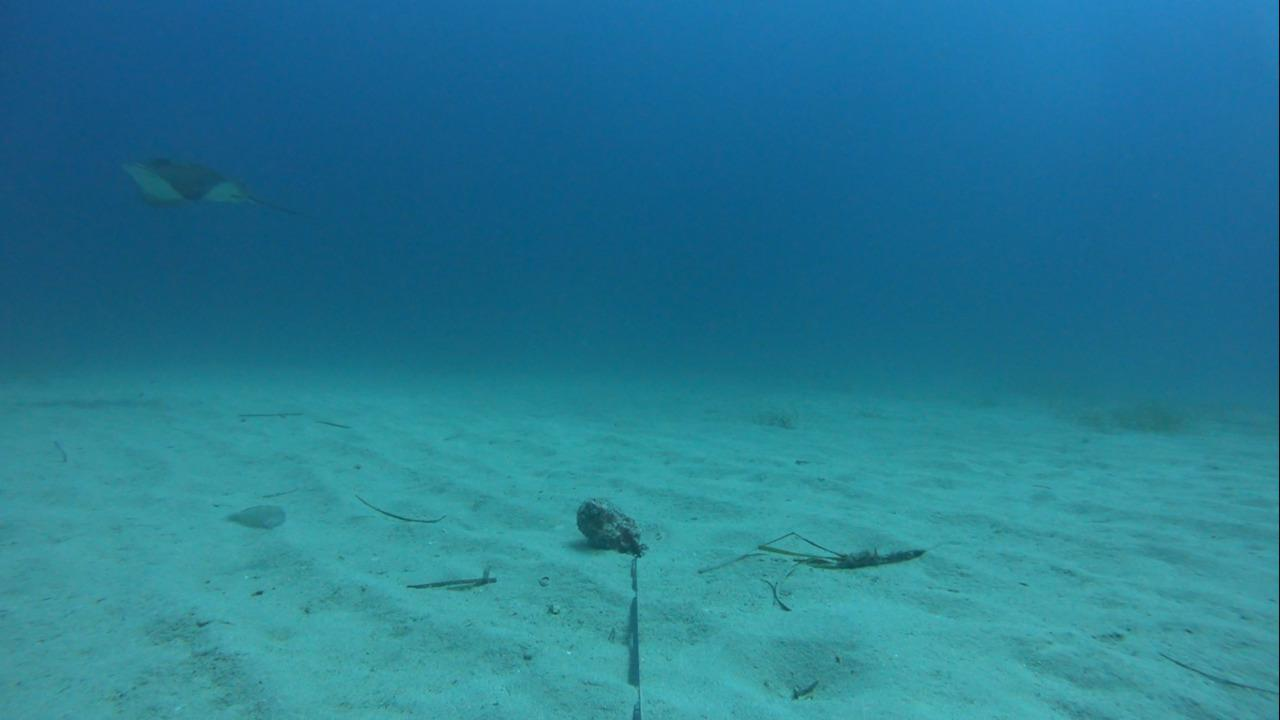myliobatis: (111, 151, 323, 221)
raor: (218, 497, 294, 536)
